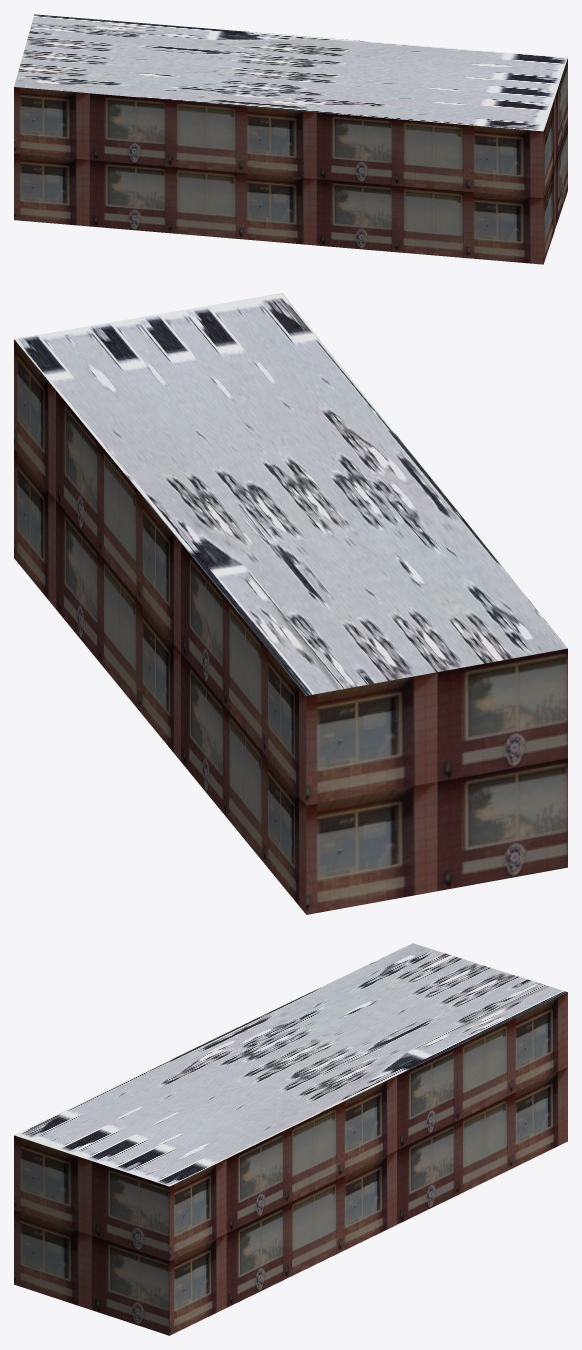
File: ResTex__1919.fbx
The picture shows the model from 3 angles, top to bottom: view 1: azimuth 30°, elevation 25°; view 2: azimuth 150°, elevation 25°; view 3: azimuth 270°, elevation 25°; orthographic projection. The views are drawn at different scales.
Parts seen in each view (by area): view 1: CityEngineMaterial_13_m, CityEngineMaterial_8_m; view 2: CityEngineMaterial_13_m, CityEngineMaterial_8_m; view 3: CityEngineMaterial_13_m, CityEngineMaterial_8_m.
Part boxes in pixels (x1,y1,x2,y2): CityEngineMaterial_13_m: (14,58,567,264); CityEngineMaterial_8_m: (14,14,567,131); CityEngineMaterial_13_m: (14,339,567,914); CityEngineMaterial_8_m: (14,293,567,695); CityEngineMaterial_13_m: (14,992,567,1335); CityEngineMaterial_8_m: (14,943,567,1186).
Size of the model in its own units: 21 by 6 by 20.19.
2 materials, 2 textured.
